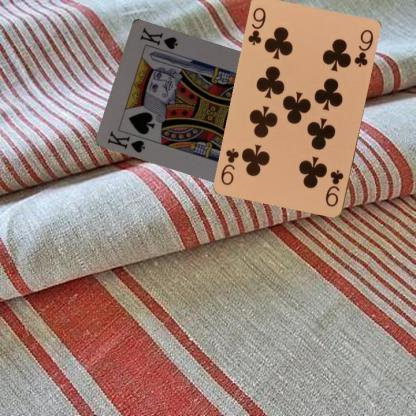9c: (245, 5, 268, 47), (323, 167, 345, 209)
Ks: (105, 128, 147, 154)
